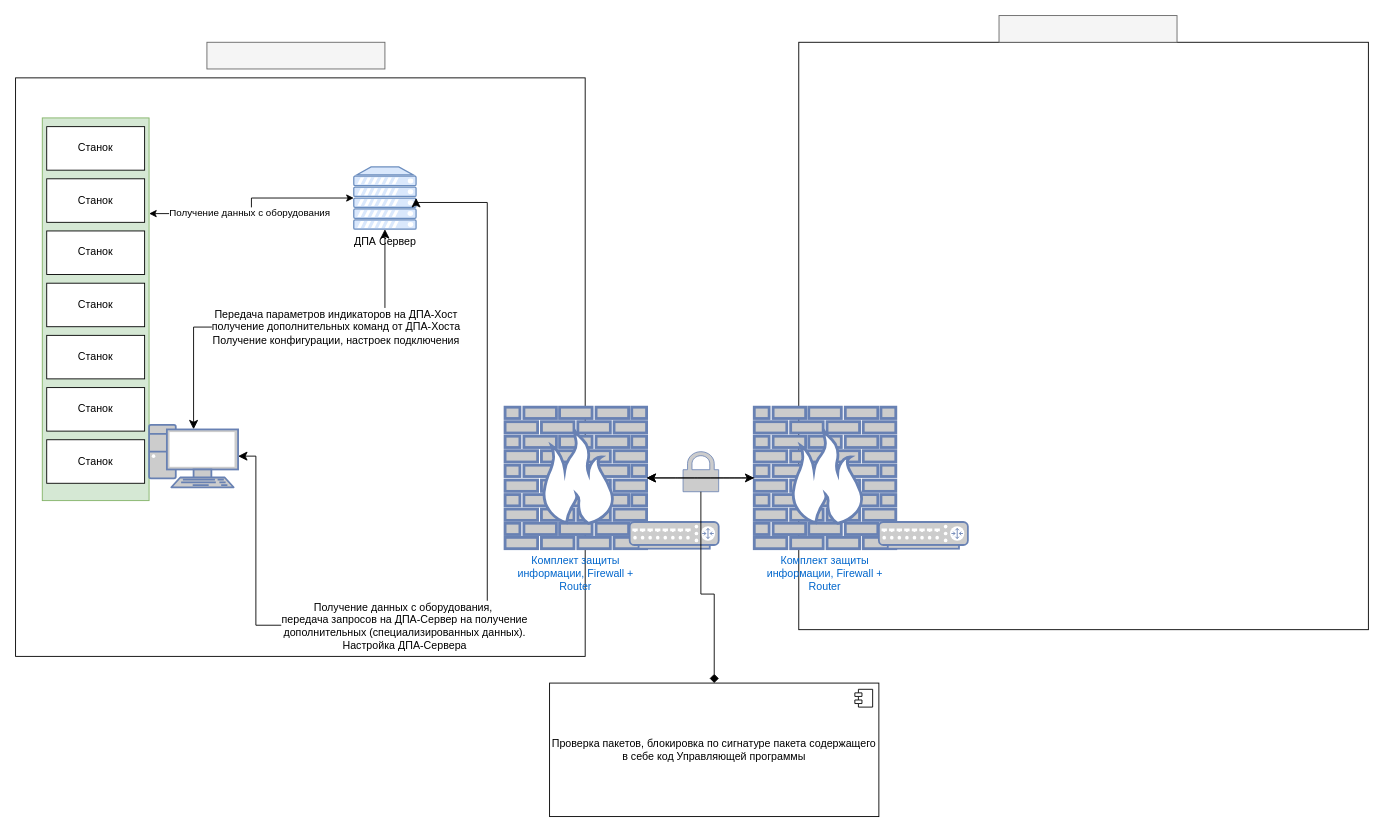
Image size: 1384x832. Some labels were removed from this diagram. Each missing label, with the centre of its shape:
"АСЗИ" belongs at pixel 1087 28.
"АСУ ТП" belongs at pixel 295 55.
"ДПА-Хост" belongs at pixel 193 456.
